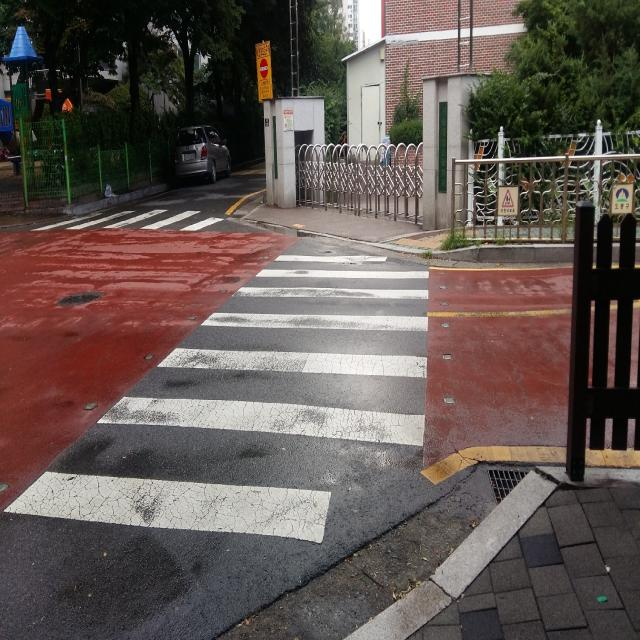횡단보도: (0, 248, 431, 548), (31, 187, 235, 243)
